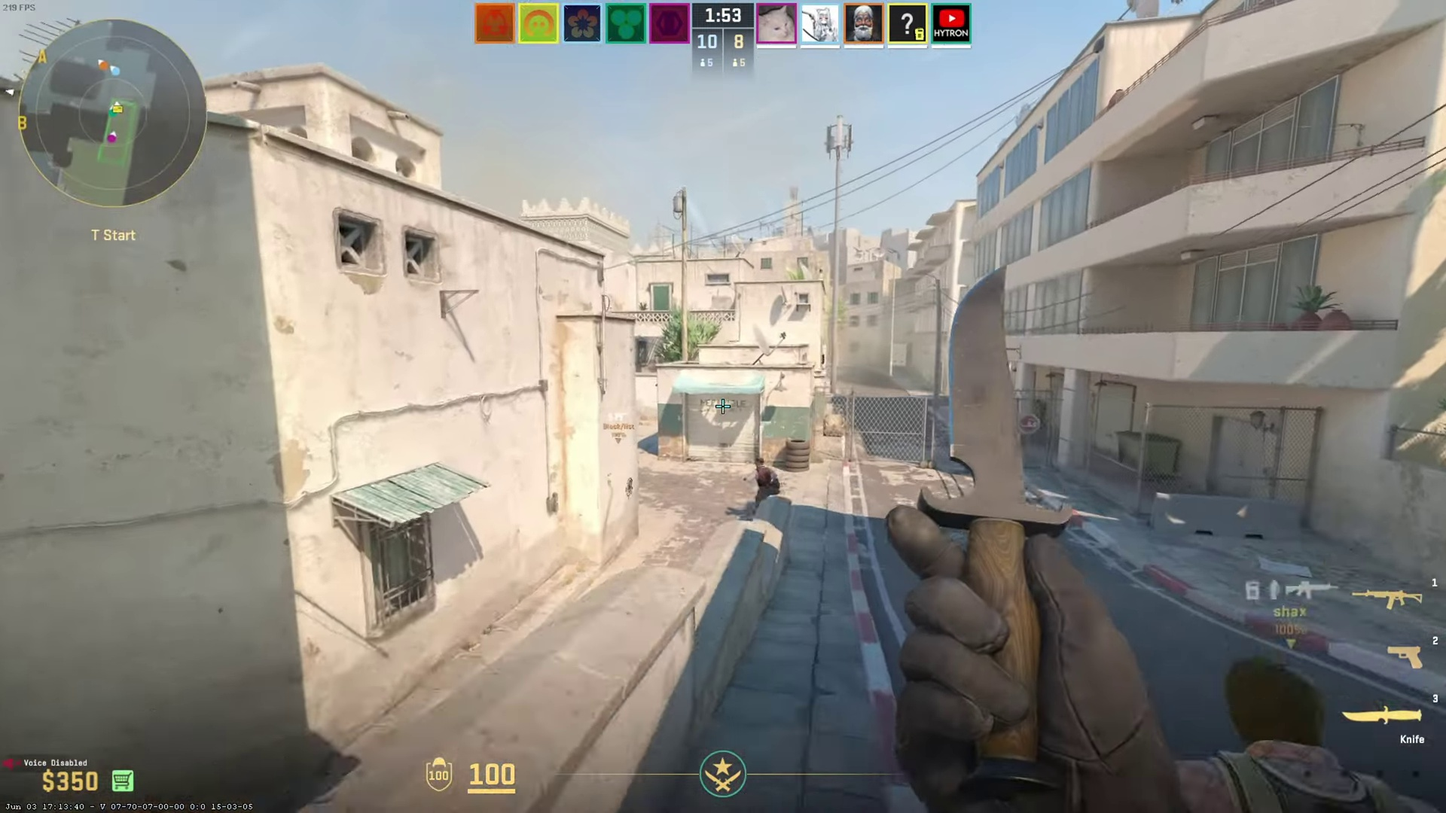Terrorist: (747, 455, 788, 509)
